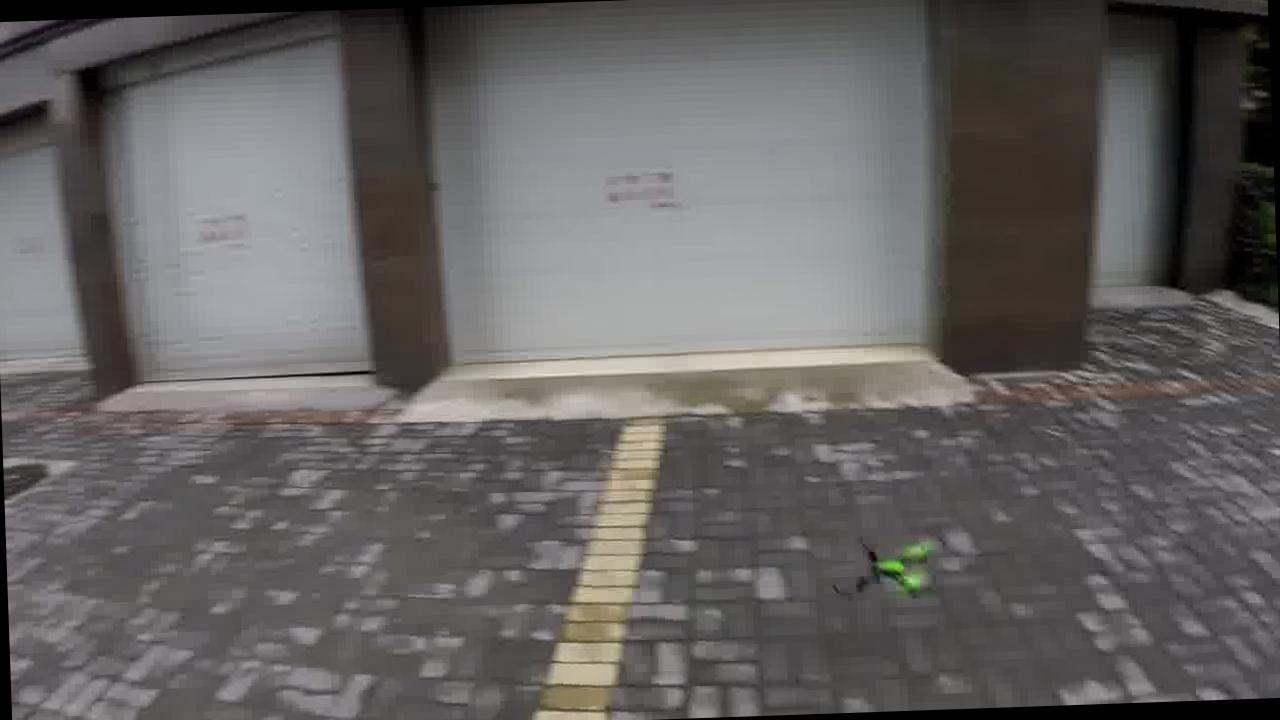drone: (808, 519, 962, 614)
